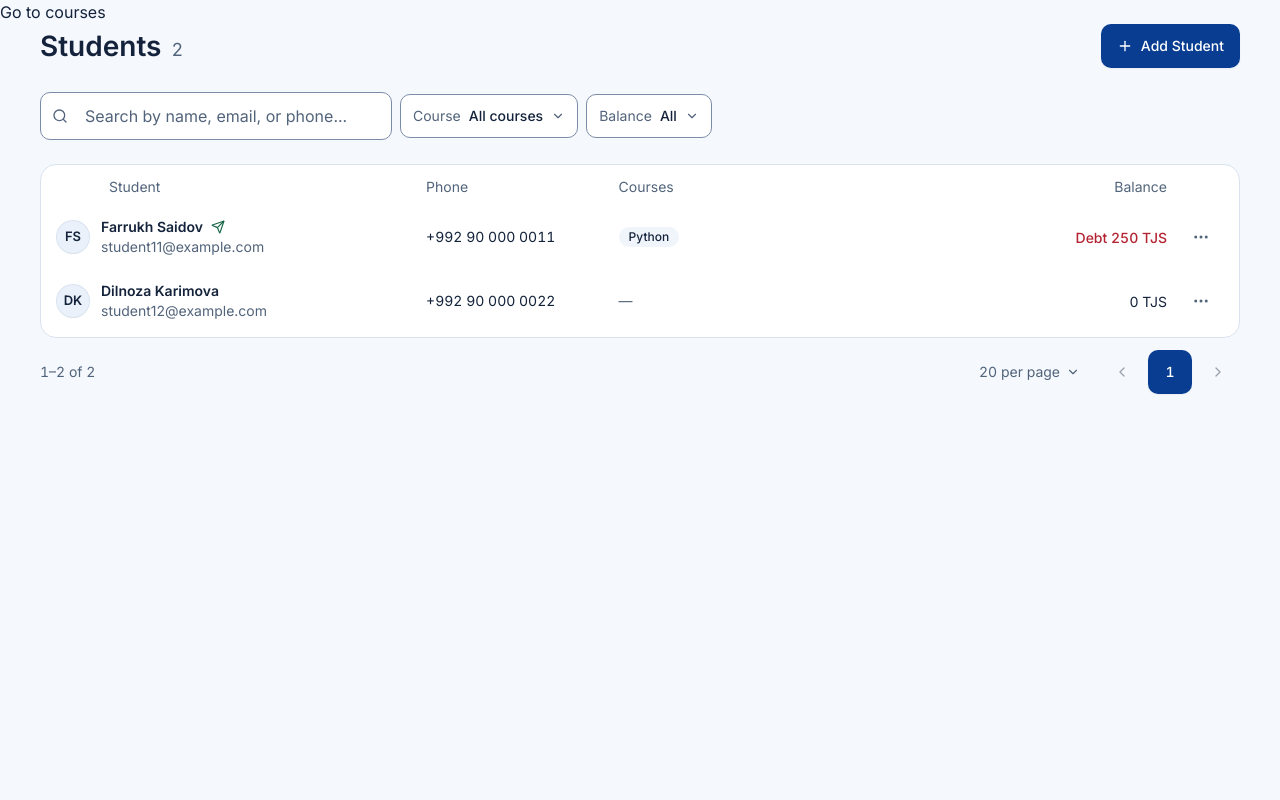
Test case: Students page › reports withdrawal failure truthfully without deleting the user account
Click the button named "Student actions: Farrukh Saidov" at [1201, 237], box [1179,215,1223,259]
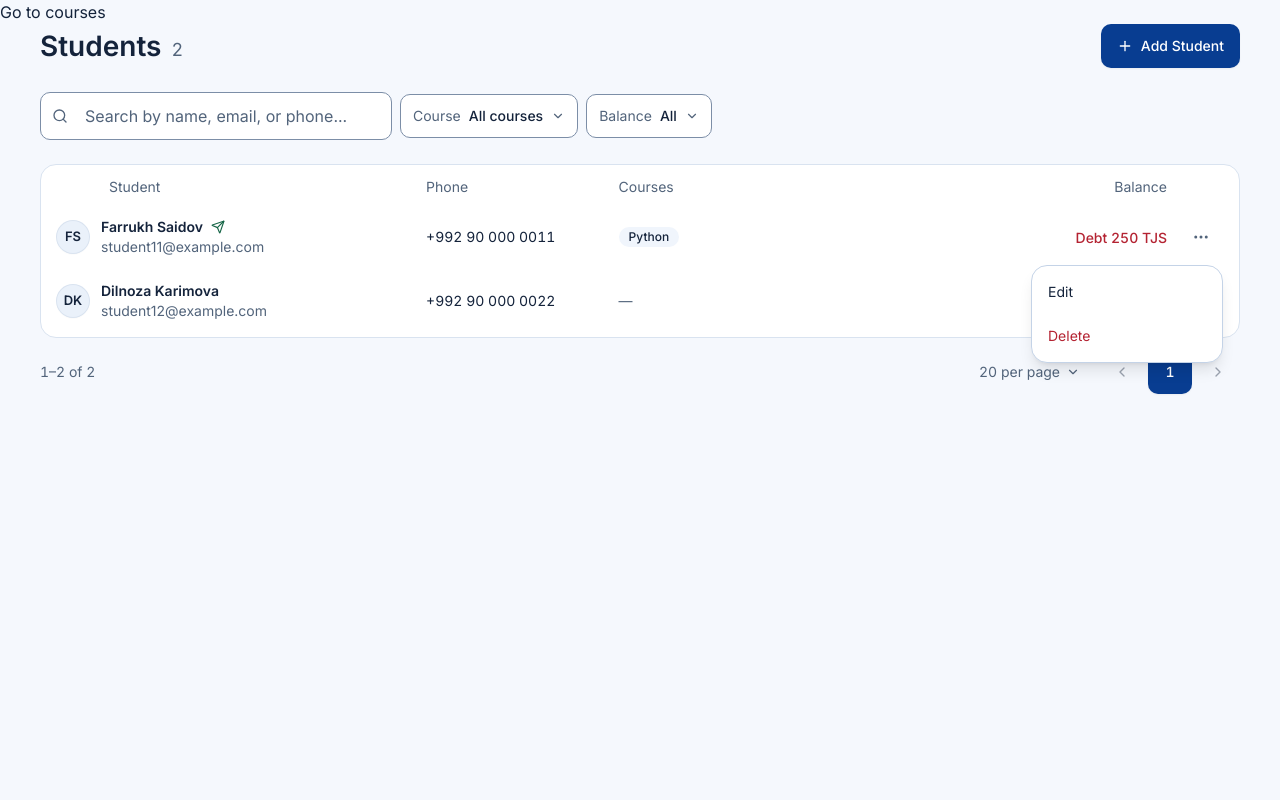
Click the menu item "Delete" at [1069, 336], box [1048,327,1090,344]
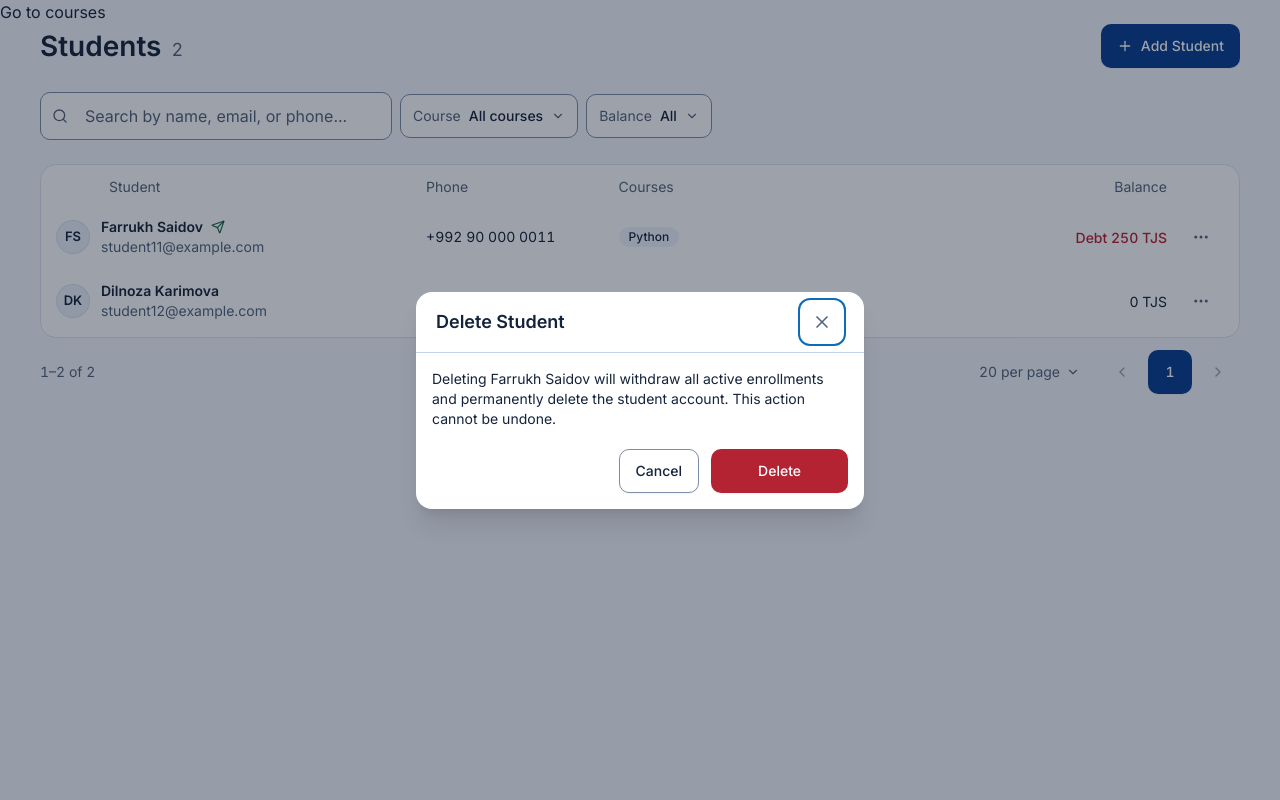
Click the button "Delete" at [780, 470], box [711,448,848,492]
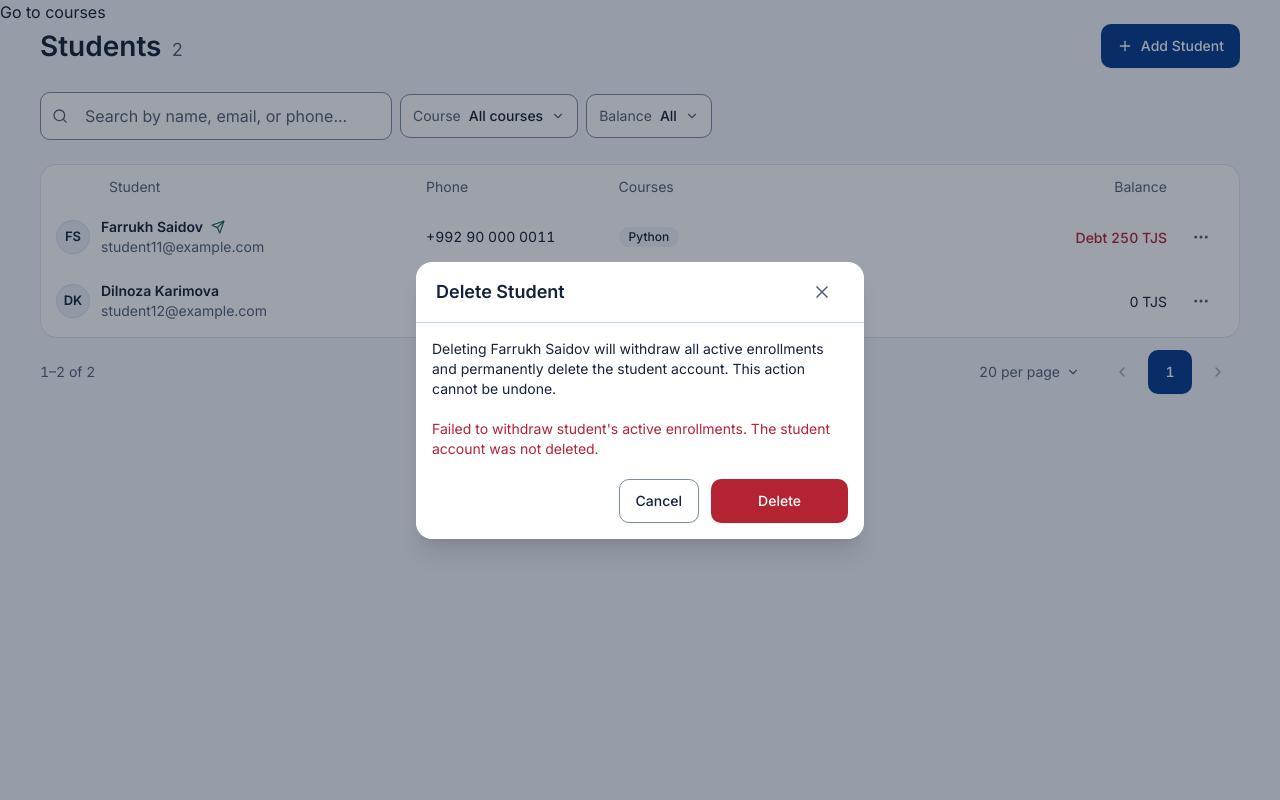
Check: the text "Failed to withdraw student's active enrollments. The student account was not deleted." is shown, box [432,420,830,456]
